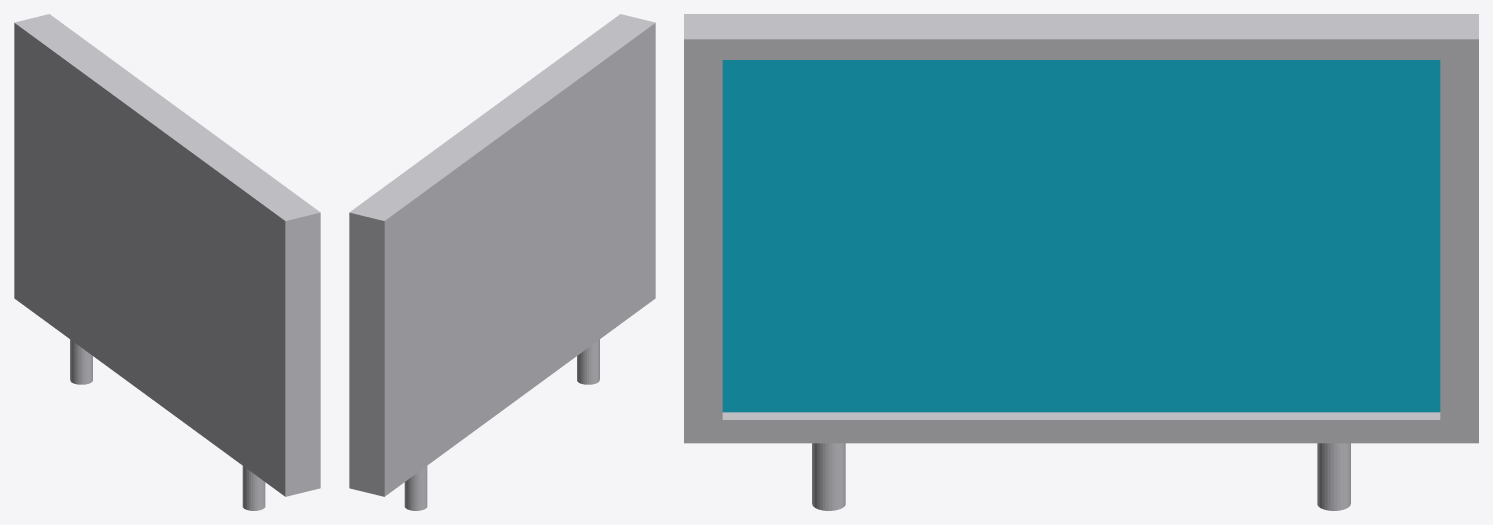
The model's file is signpost.glb.
3 views of the same model, side by side, from view 1: azimuth 30°, elevation 25°; view 2: azimuth 150°, elevation 25°; view 3: azimuth 270°, elevation 25° (orthographic). The views are drawn at different scales.
Parts seen in each view (by area): view 1: bulletin board; view 2: bulletin board; view 3: bulletin board.
Boxes of the visible parts, <box> form: bulletin board: <box>14,14,320,510</box>; bulletin board: <box>349,14,655,510</box>; bulletin board: <box>684,14,1478,510</box>.
Size of the model in its own units: 0.3566 by 3.14 by 4.75.
